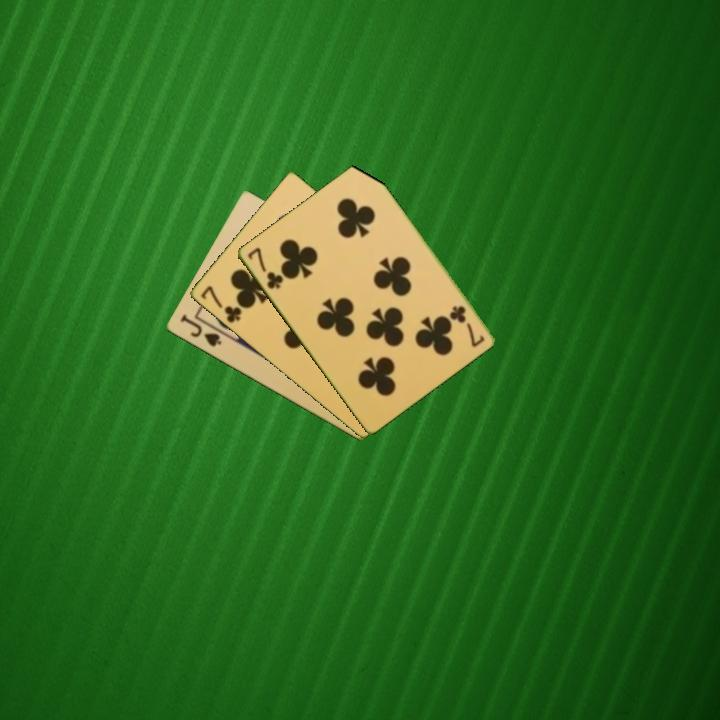7c: (197, 282, 244, 326), (244, 244, 286, 292), (446, 302, 487, 349)
Js: (176, 311, 224, 350)
